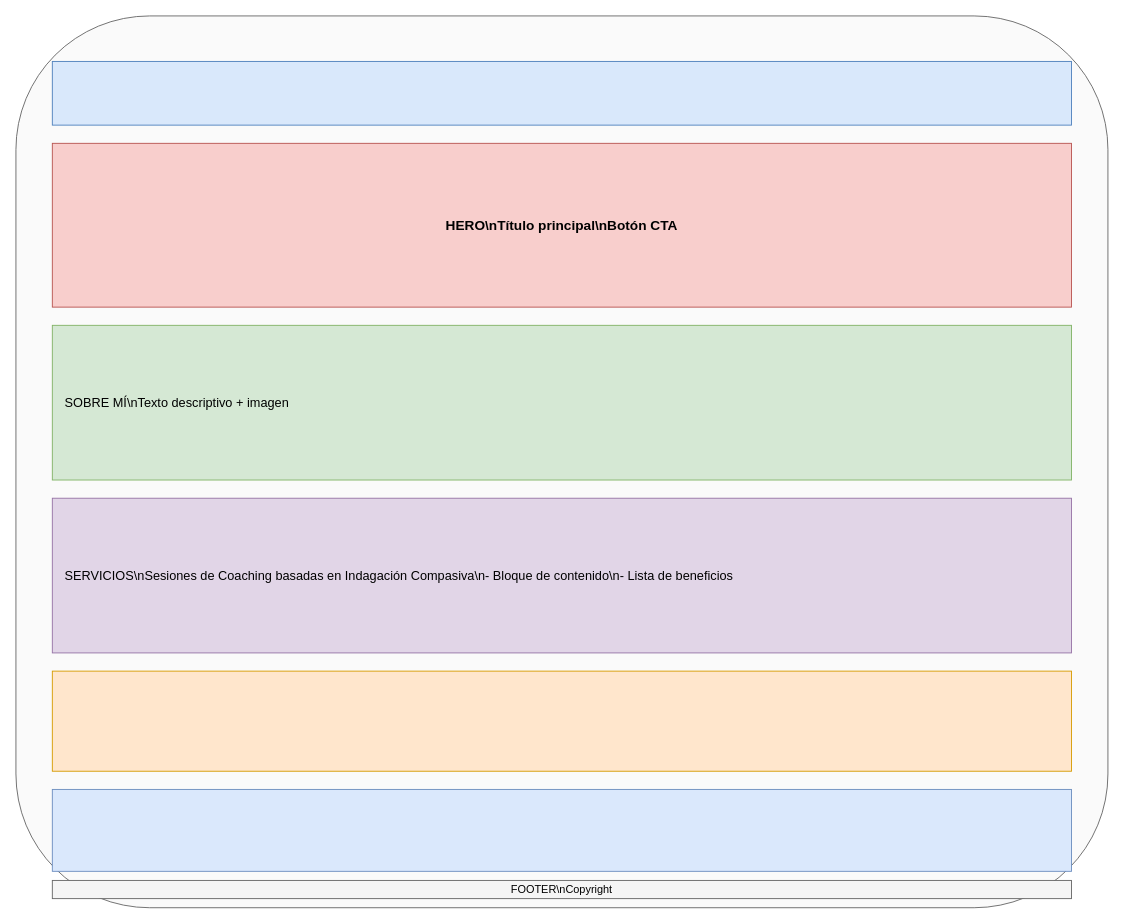
Image size: 1124x924. Some labels were removed from this diagram. Here are the shapes that lost their labels. From the top down, the centre of each, then its label:
At pixel 561 93: "NAVBAR: Logo + Menú (Inicio, Sobre mí, Servicios, Testimonios, Contacta)".
At pixel 561 720: "TESTIMONIOS\nCarrusel con reseñas".
At pixel 561 830: "CONTACTA\nEmail + redes sociales".
